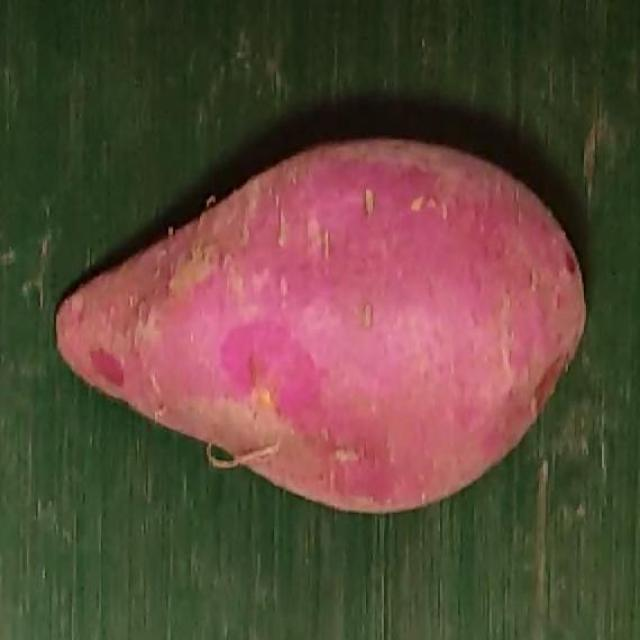Sweet Potato: (56, 139, 587, 517)
